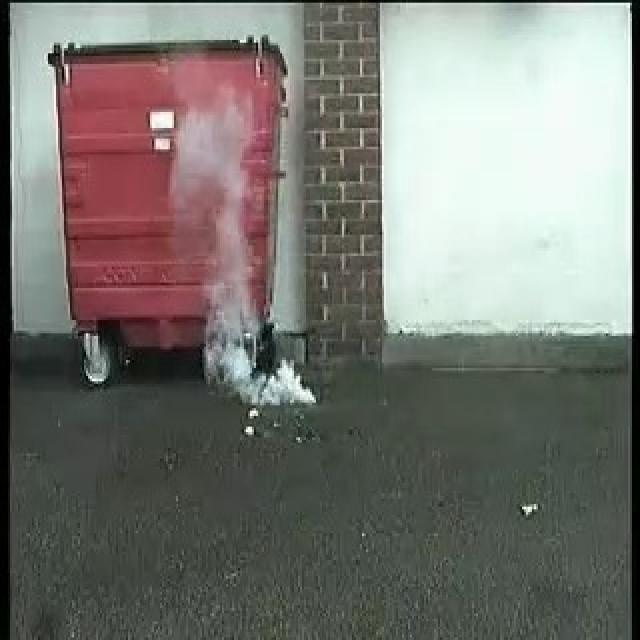smoke: (173, 105, 315, 412)
